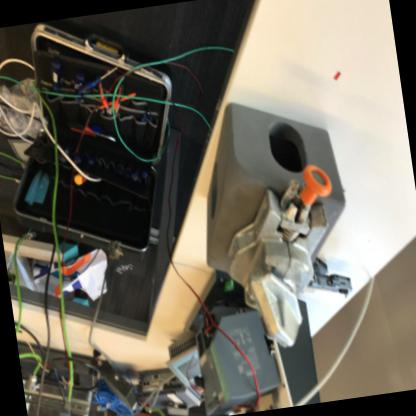CornerCasting: (180, 83, 354, 272)
Twistlock: (208, 161, 354, 359)
